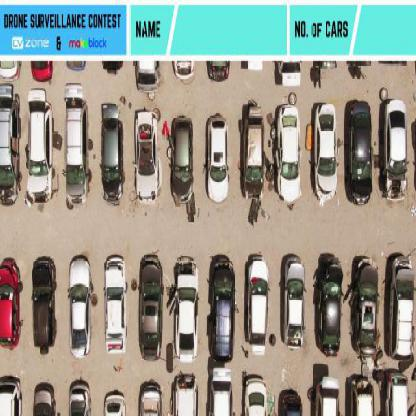car: (345, 257, 379, 359), (65, 86, 90, 209), (27, 90, 53, 204), (345, 100, 372, 205), (315, 256, 343, 355), (209, 257, 235, 362), (139, 254, 163, 362), (239, 102, 265, 201), (175, 256, 200, 358), (391, 256, 415, 362), (32, 258, 58, 351), (103, 254, 127, 354), (101, 101, 124, 205), (69, 256, 92, 356), (386, 99, 408, 203), (278, 106, 300, 210), (169, 116, 194, 206), (0, 85, 18, 206), (135, 109, 158, 203), (0, 260, 23, 350), (284, 255, 306, 349), (316, 106, 337, 201), (248, 256, 269, 351), (206, 114, 228, 204), (208, 369, 235, 415), (243, 376, 268, 415), (386, 373, 409, 415), (132, 61, 161, 93), (318, 377, 342, 415), (174, 375, 196, 415), (350, 380, 374, 415), (70, 380, 94, 415), (139, 382, 164, 415), (1, 378, 23, 415), (33, 382, 56, 415), (277, 389, 302, 415), (103, 390, 128, 415), (277, 61, 300, 87), (29, 61, 53, 82), (207, 61, 229, 83), (0, 62, 21, 80)
